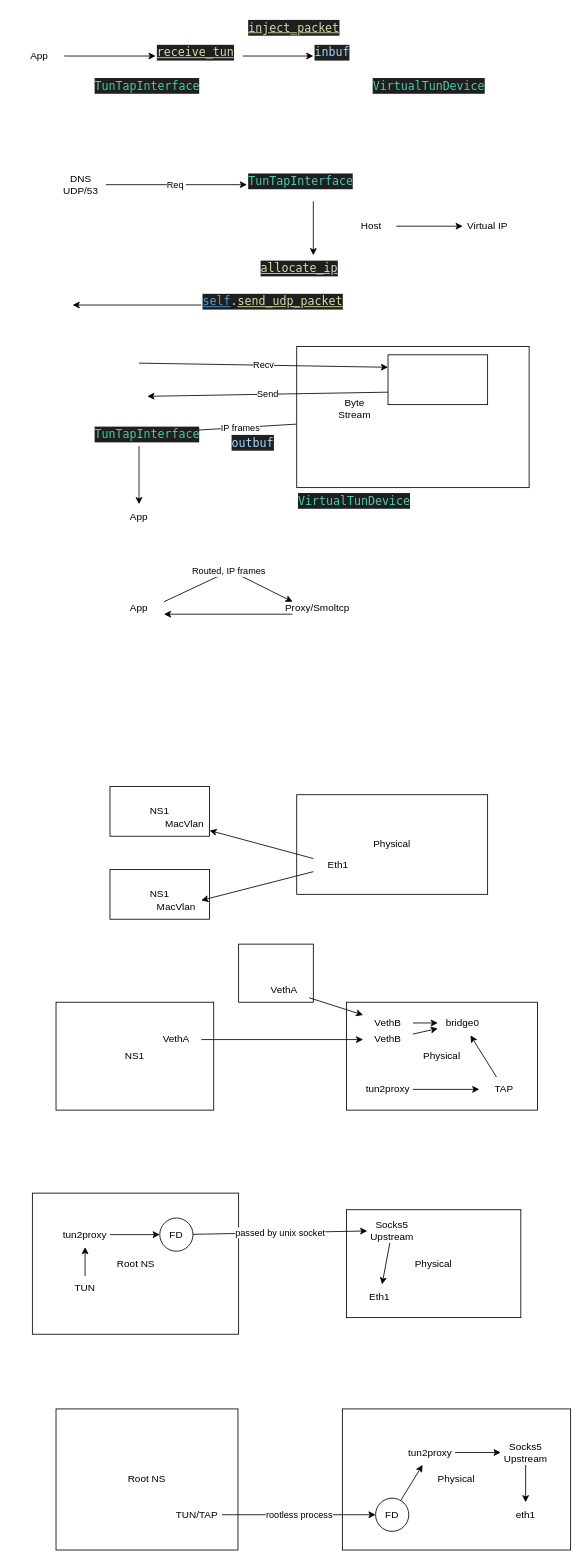
Image size: 585x1565. Some labels were removed from this diagram. The shapes that lost their labels are listed below. From the top down, each one's box as (x1, y1, x2, y2) in pixels, then its label:
(387, 354, 488, 405): UDP socket
(238, 943, 313, 1002): NS2
